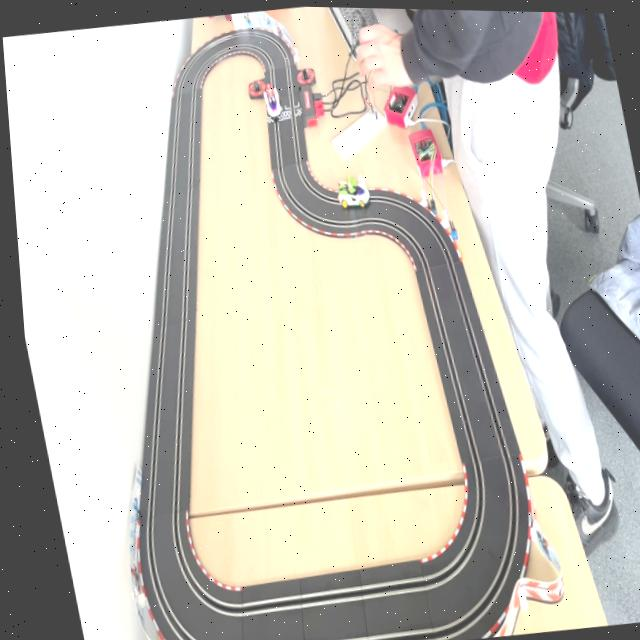mario: (258, 78, 283, 120)
yoshi: (328, 168, 370, 210)
